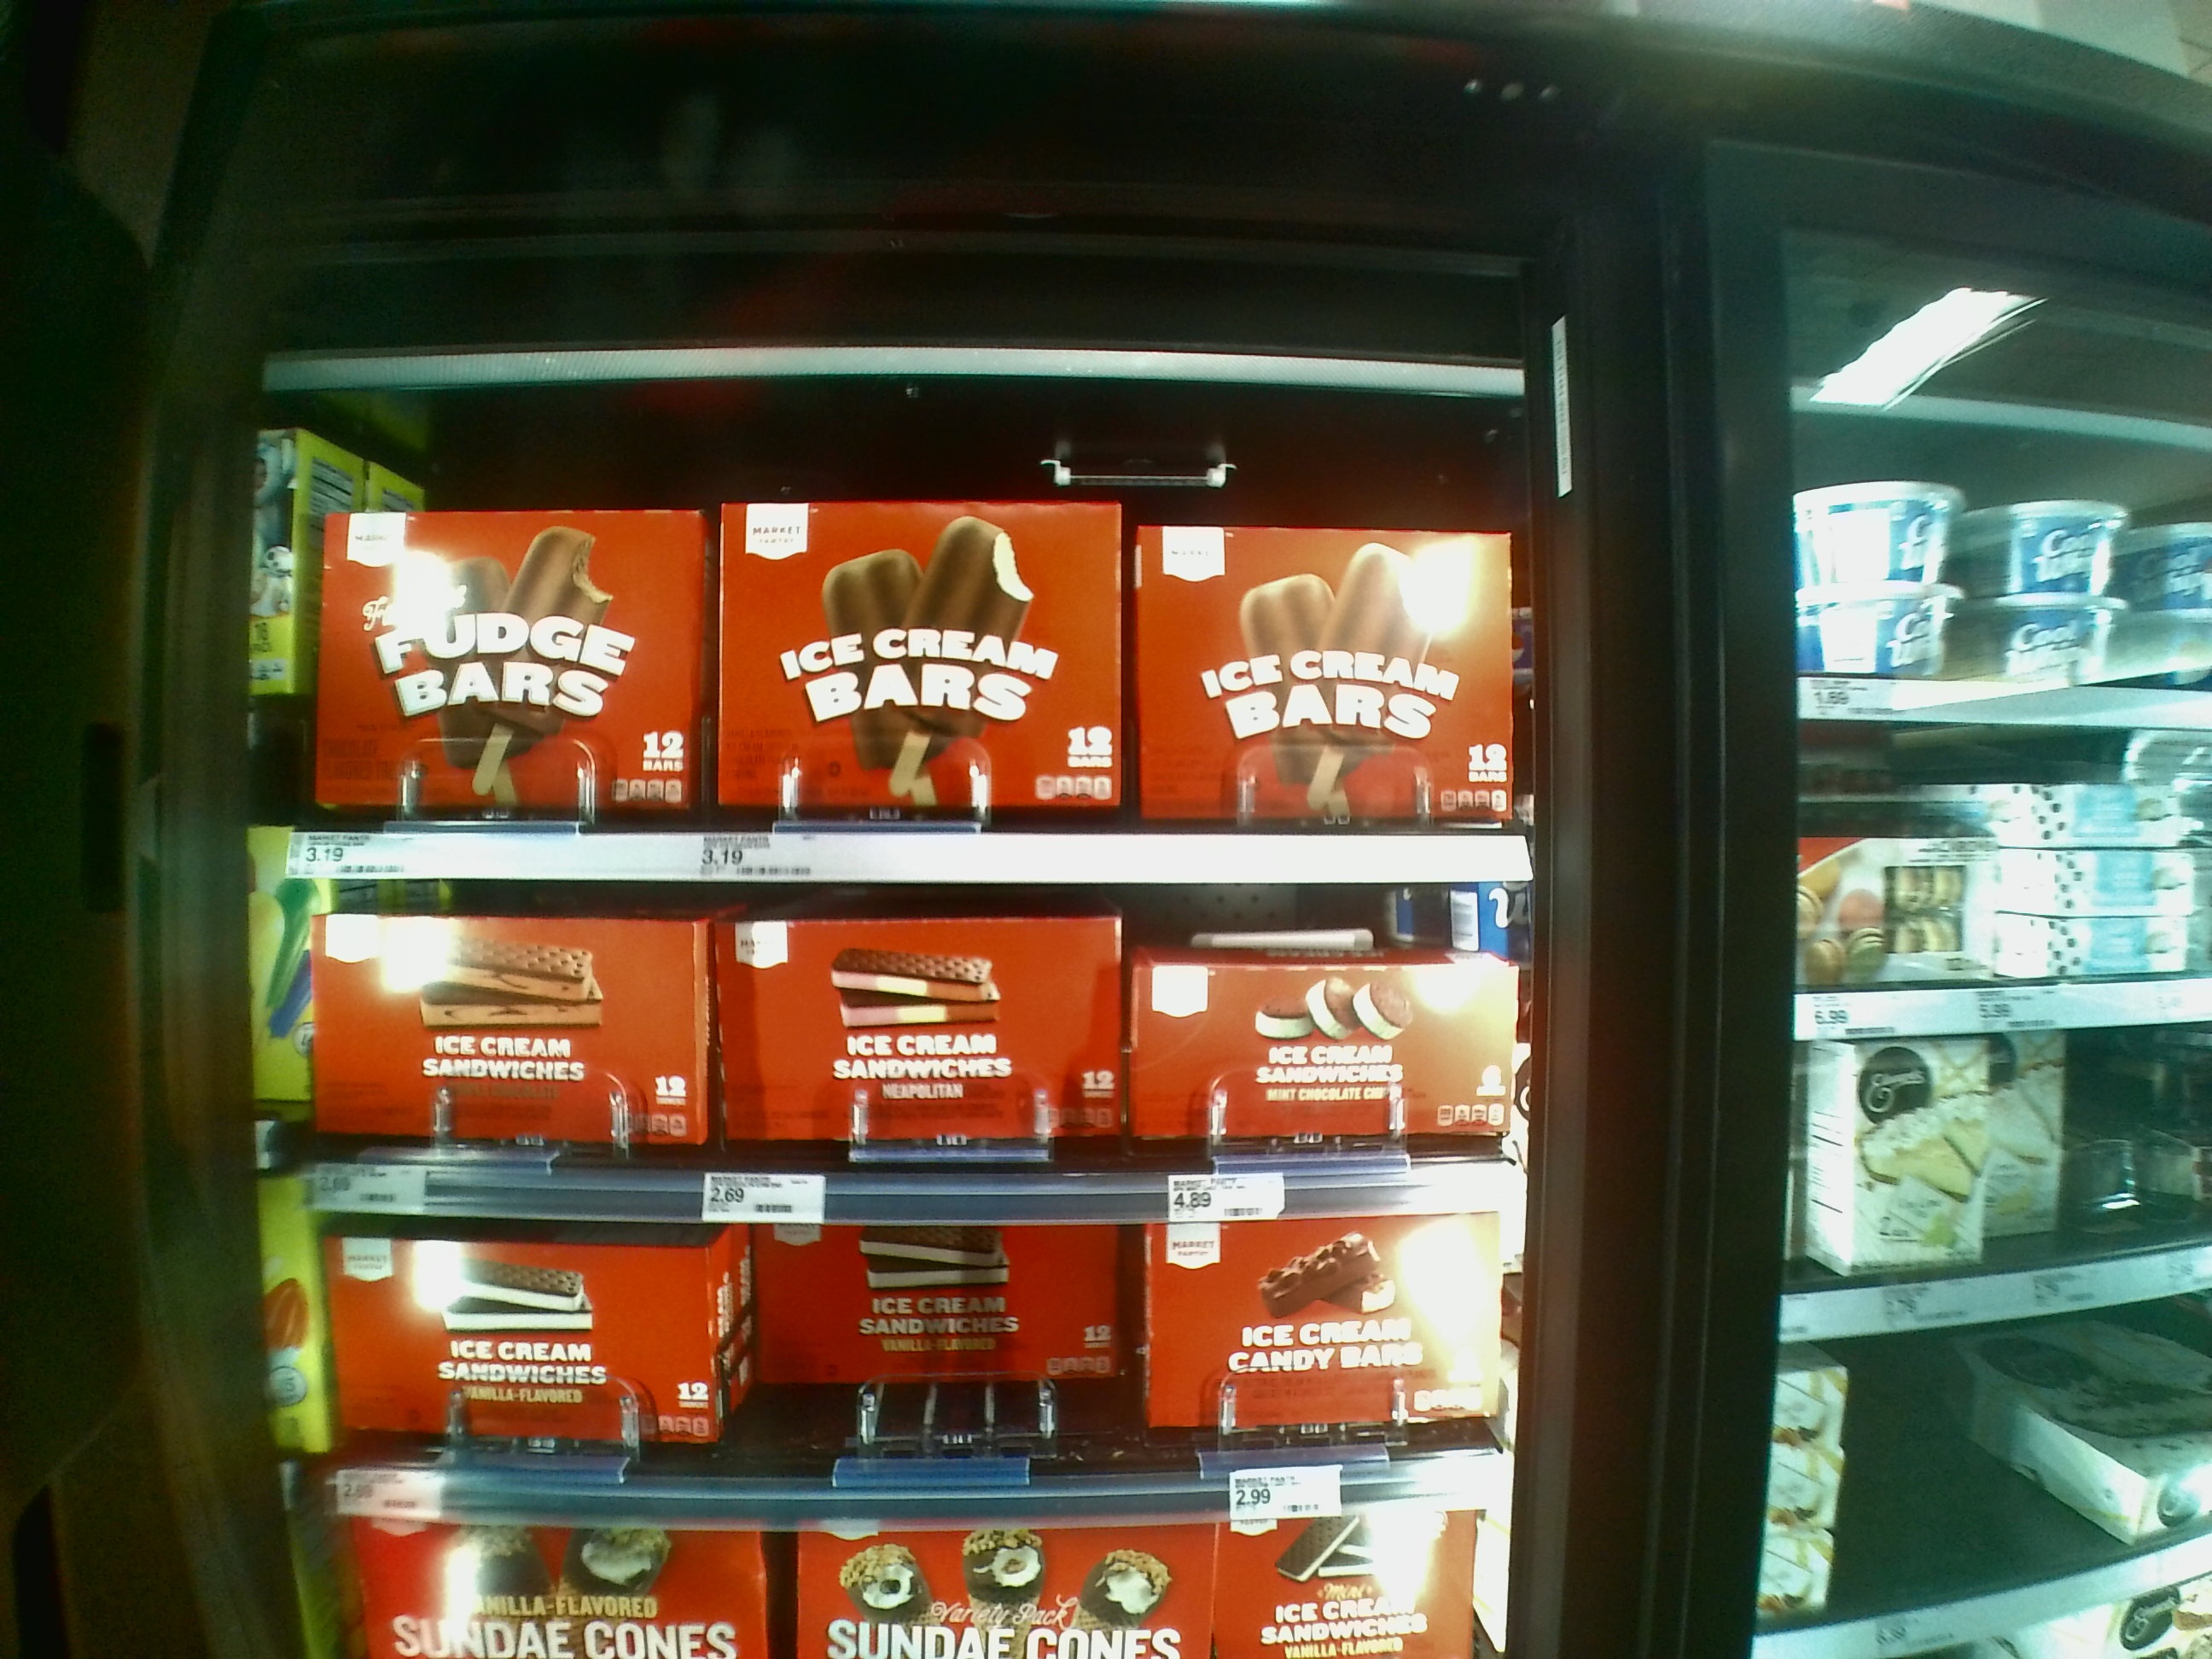shelf: (294, 401, 1519, 873), (300, 866, 1521, 1208), (301, 1199, 1519, 1513)
